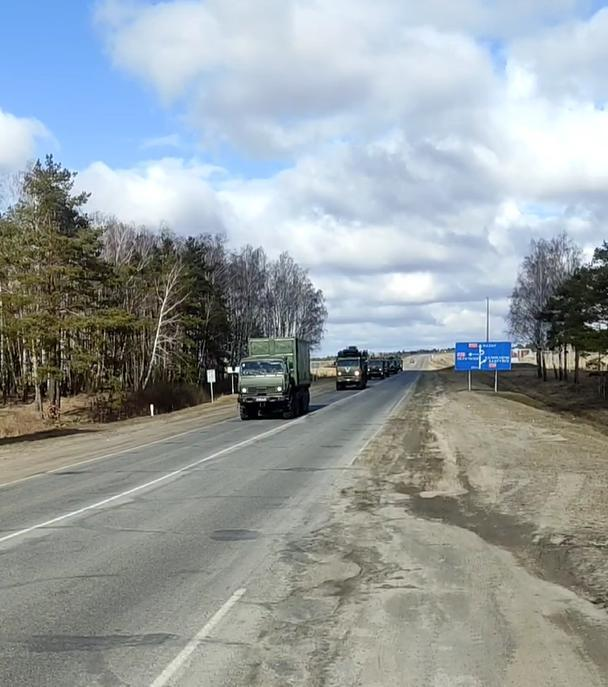truck: (233, 335, 316, 421), (331, 346, 367, 393), (366, 354, 390, 385)
